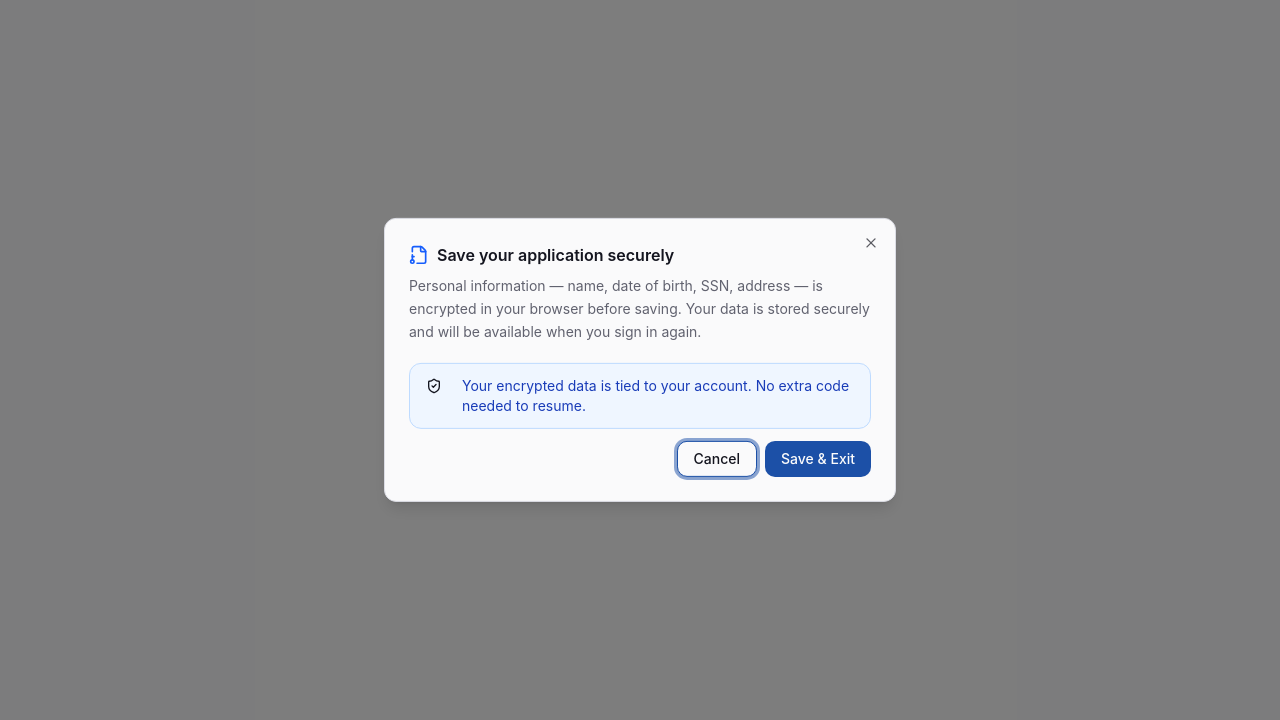
it: PhiSaveExitDialog › does not upload PHI when the safe draft save fails
The width and height of the screenshot is (1280, 720).
Step 1. Click the button "Save & Exit" → coordinates (818, 459), box [765,441,871,477]
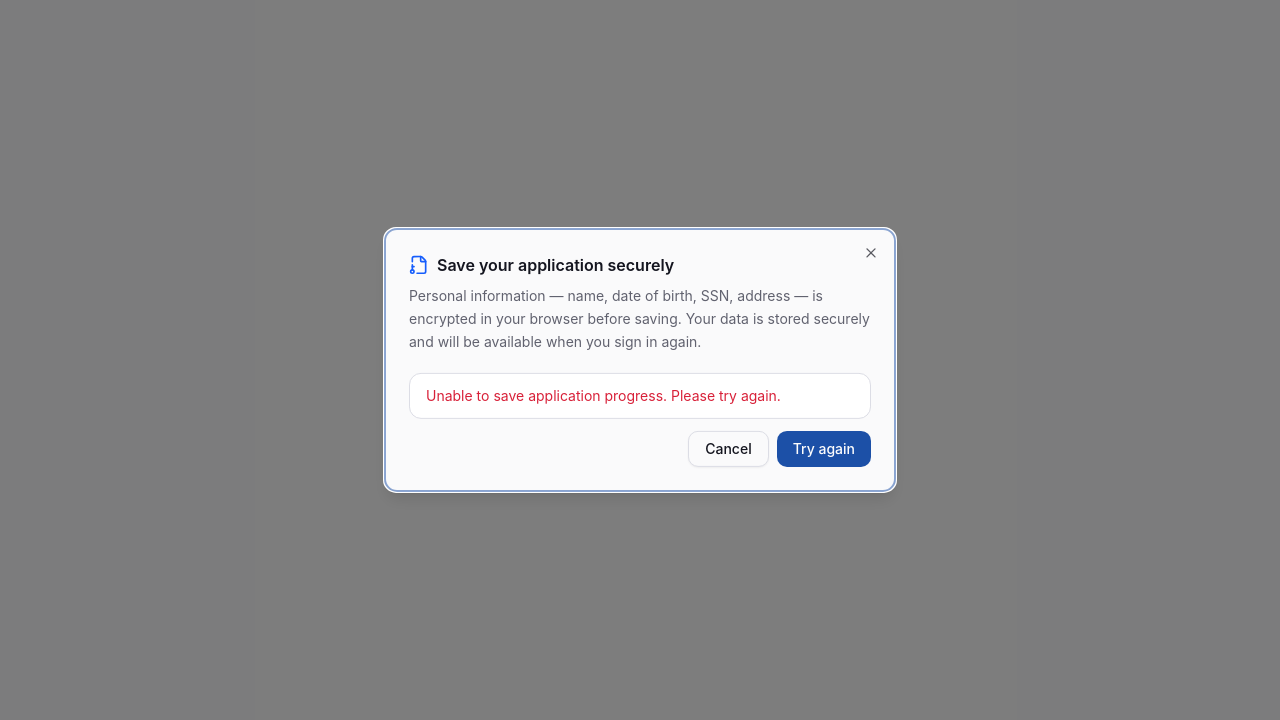
Check: the text "Unable to save application progress. Please try again." is shown, box [426,387,781,404]
